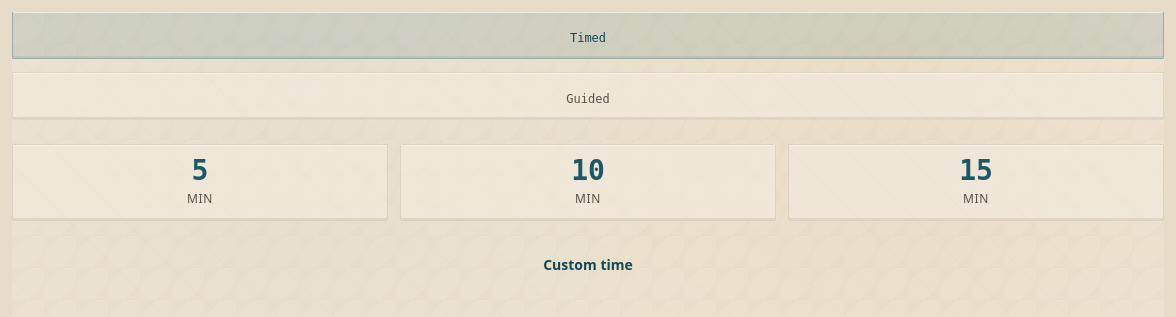
Test: TimerCore dashboard mode › starts timer in-place when a preset is clicked — does not navigate
Click the button with test id "meditation-preset-10". click: (588, 183)
box: [400,144,776,221]
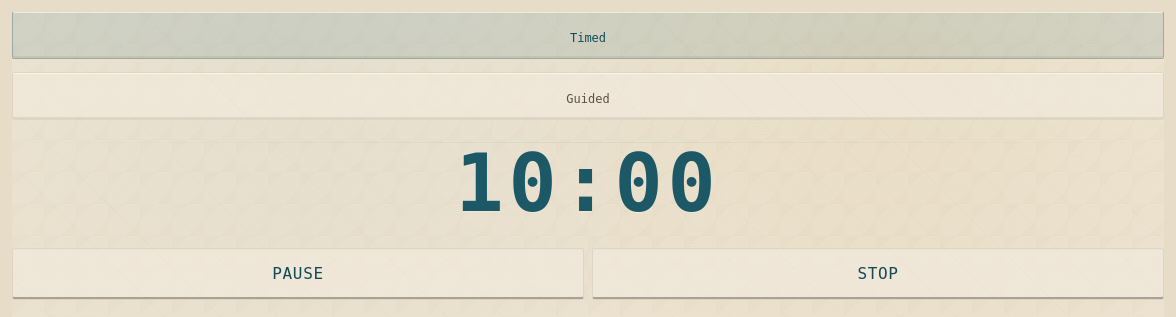
Expected: the text with test id "timer-readout" reads "10:00", [456,137,720,230]
Expected: the element with test id "meditation-presets" is gone
